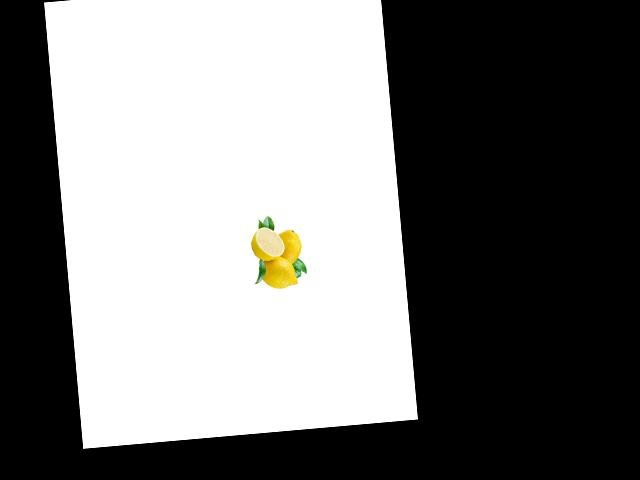lemon: (256, 253, 302, 292)
